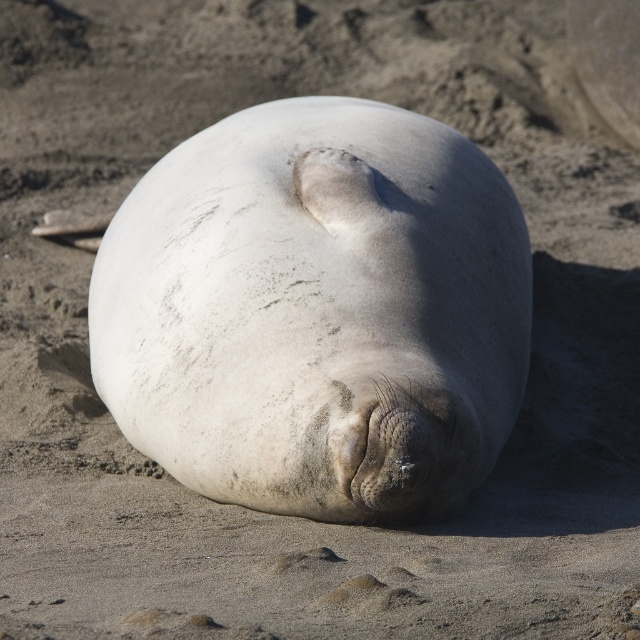Harbor seal: (88, 94, 536, 504)
